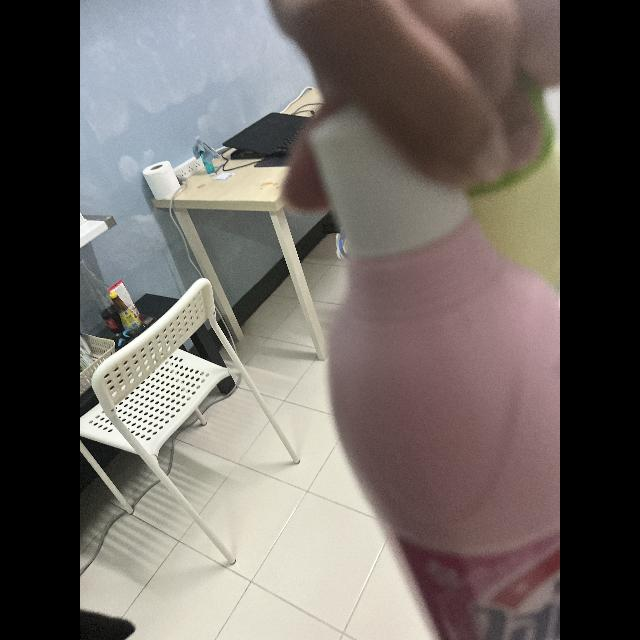chemical_plastic_bottle: (310, 80, 560, 640)
